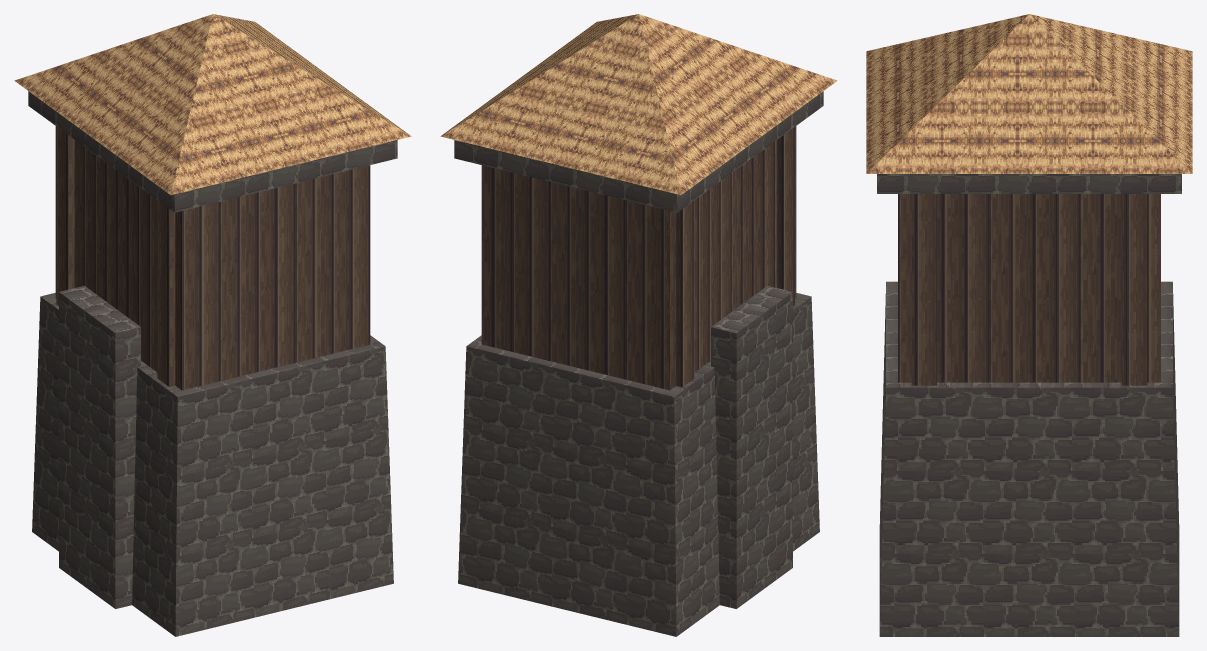
Rendered from gate_tower.glb.
The picture shows the model from 3 angles, left to right: view 1: azimuth 30°, elevation 25°; view 2: azimuth 150°, elevation 25°; view 3: azimuth 270°, elevation 25°; orthographic projection. The views are drawn at different scales.
Parts seen in each view (by area): view 1: gate_tower; view 2: gate_tower; view 3: gate_tower.
Part boxes in pixels (x1,y1,x2,y2): gate_tower: [14, 14, 411, 636]; gate_tower: [440, 14, 837, 636]; gate_tower: [866, 14, 1192, 636].
Size of the model in its own units: 3.27 by 6.9 by 3.6.
3 materials, 3 textured.
